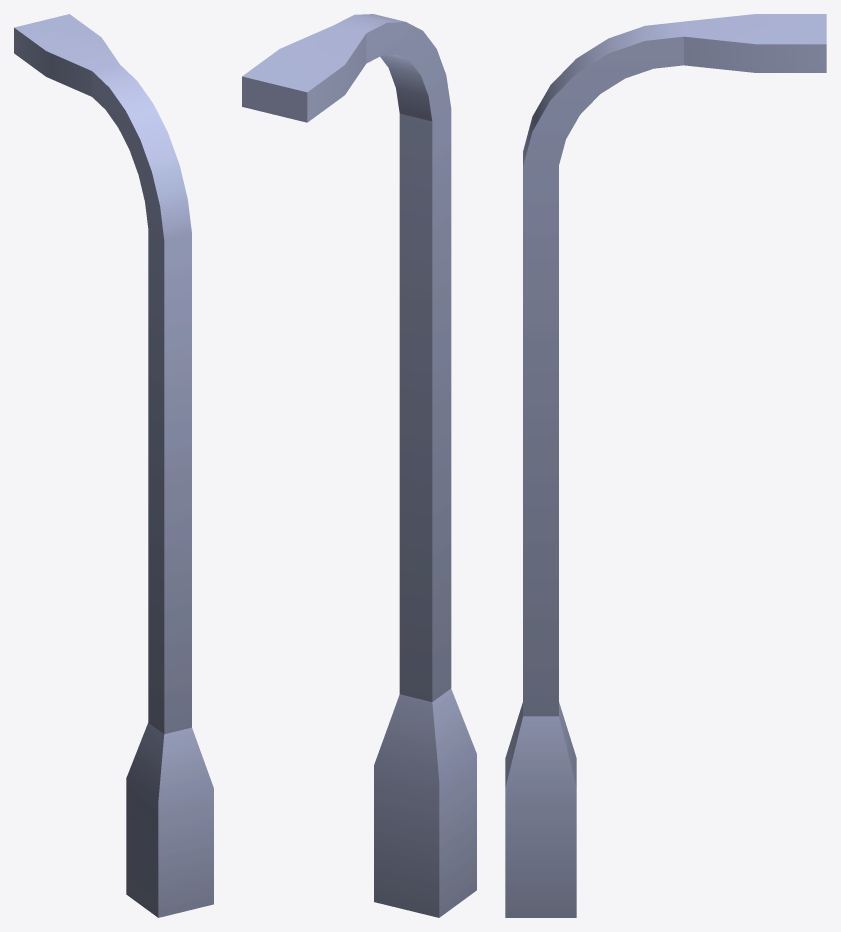
The model's file is light-curved.glb.
The picture shows the model from 3 angles, left to right: view 1: azimuth 30°, elevation 25°; view 2: azimuth 150°, elevation 25°; view 3: azimuth 270°, elevation 25°; orthographic projection. The views are drawn at different scales.
Parts seen in each view (by area): view 1: light-curved; view 2: light-curved; view 3: light-curved.
Part boxes in pixels (box(x1,y1,x2,y2)): light-curved: box(14, 14, 213, 917); light-curved: box(242, 14, 476, 917); light-curved: box(505, 14, 826, 917).
Bounding box in the file's own units: 0.05 × 0.675 × 0.225.
1 material, 1 textured.
